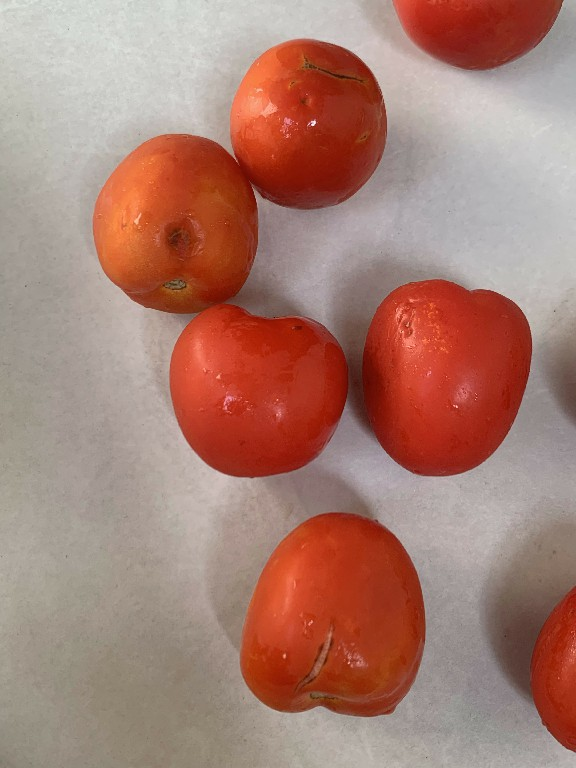NG: (230, 504, 426, 723), (86, 125, 257, 315), (220, 35, 390, 214)
OK: (359, 273, 537, 480), (164, 296, 351, 488)
